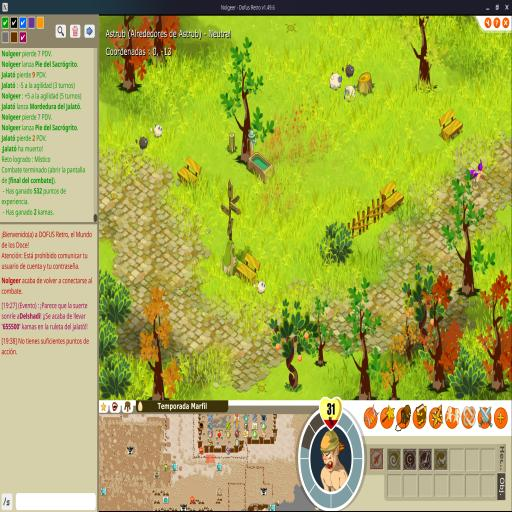Enemigos: (329, 72, 343, 91), (344, 84, 356, 102), (253, 280, 267, 295), (135, 136, 149, 150), (150, 123, 163, 138), (342, 64, 355, 78)
Personaje: (468, 158, 486, 196)
